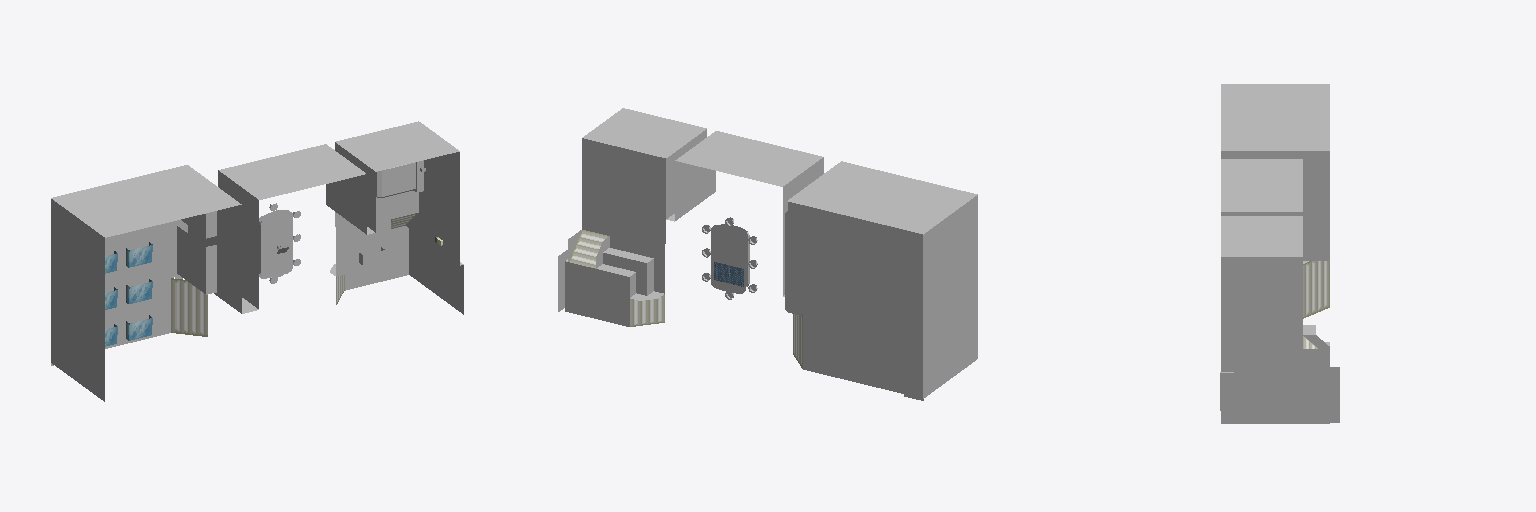
3 views of the same model, side by side, from view 1: azimuth 30°, elevation 25°; view 2: azimuth 150°, elevation 25°; view 3: azimuth 270°, elevation 25° (orthographic).
Visible parts, largest first — view 1: map; view 2: map; view 3: map.
Part boxes in pixels (x1,y1,x2,y2): map: (51, 121, 463, 401); map: (558, 108, 977, 400); map: (1220, 84, 1339, 423).
Size of the model in its own units: 31 by 13.75 by 8.92.
25 materials, 5 textured.